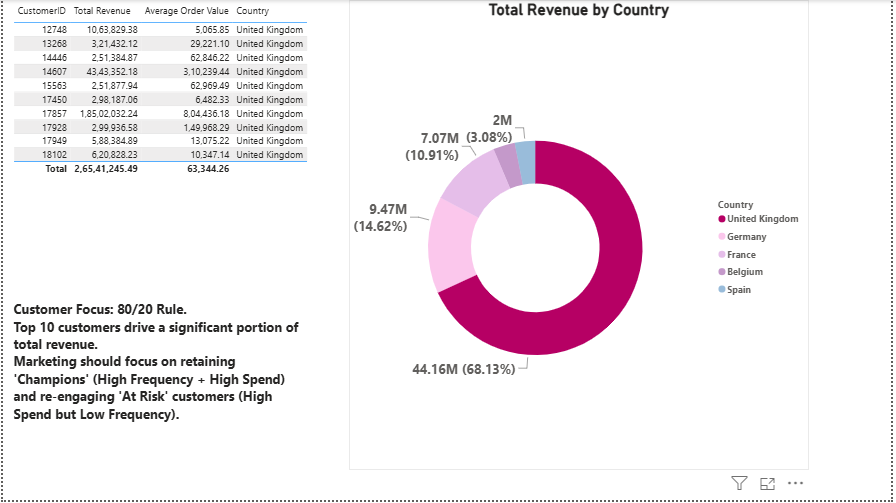

This screenshot's page, from the dashboard's own definition file:
{"tool":"powerbi","page":{"name":"Marketing View","canvas":[1280,720],"ordinal":1},"visuals":[{"type":"tableEx","fields":{"Values":["customers.CustomerID","customers.Total Revenue","customers.Average Order Value","customers.Country"]},"box":[10.1,0,438.4,277.2],"z":0},{"type":"donutChart","fields":{"Category":["customers.Country"],"Y":["customers.Total Revenue"]},"box":[498.2,0,662.4,676.8],"z":1},{"type":"textbox","box":[10,428,438,265],"z":2}]}

Visuals, with their boxes in screenshot pixels (x1, y1, x2, y2), scaled from the page's 1280x720 canvas onto the 896x503 screenshot:
tableEx - customers.CustomerID x customers.Total Revenue: box(7, 0, 314, 194)
donutChart - customers.Country x customers.Total Revenue: box(349, 0, 812, 473)
textbox: box(7, 299, 314, 484)
